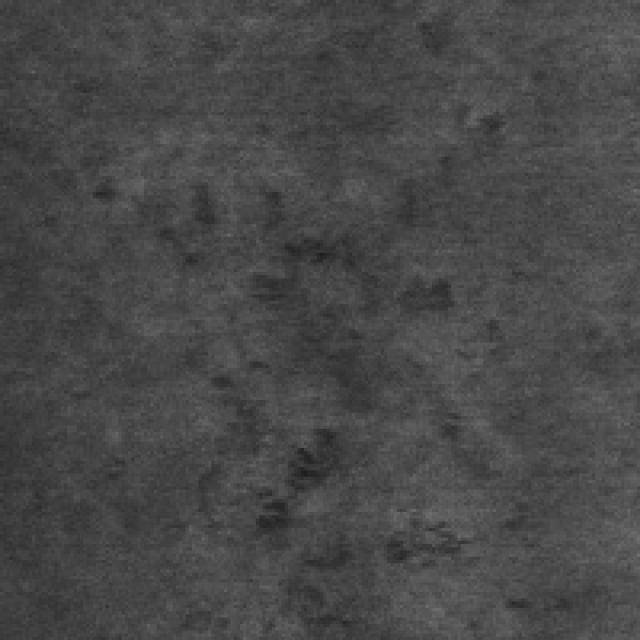rolled-in_scale: (173, 349, 464, 630)
